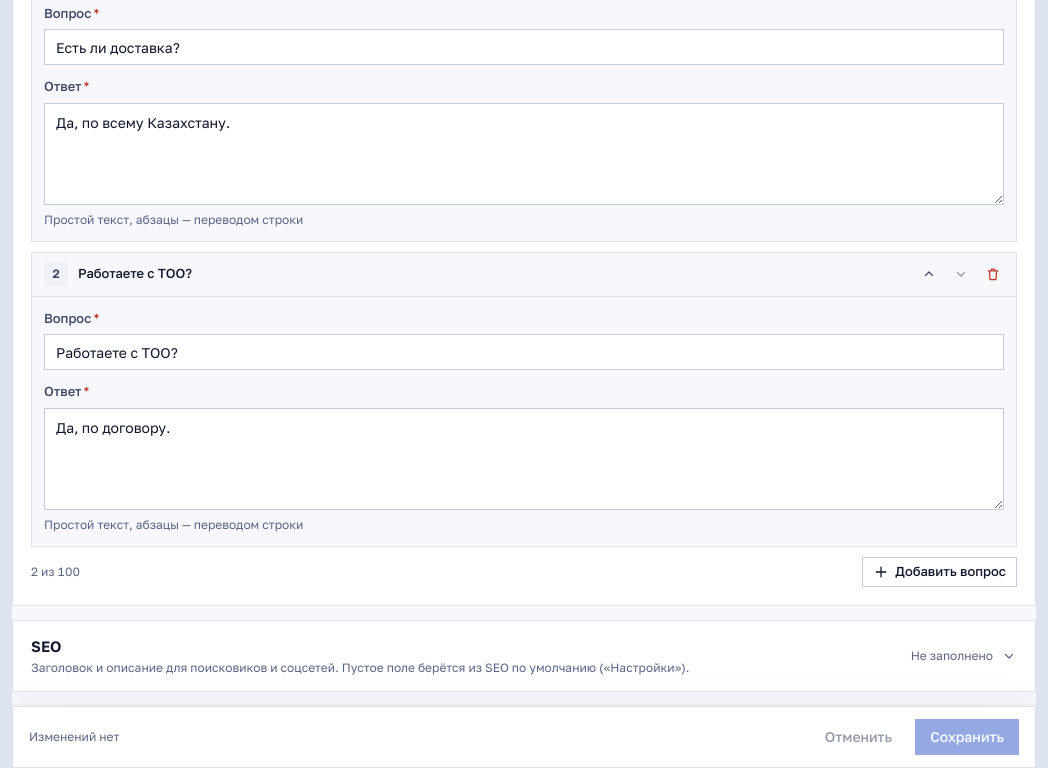
Test: FAQ › пустой новый вопрос удаляется без подтверждения; счётчик и предел
(page scrolled)
Expected: the button "Сохранить" is shown, [915,719,1019,755]
Click the button "Добавить вопрос".
click(940, 572)  # box [862,557,1017,587]
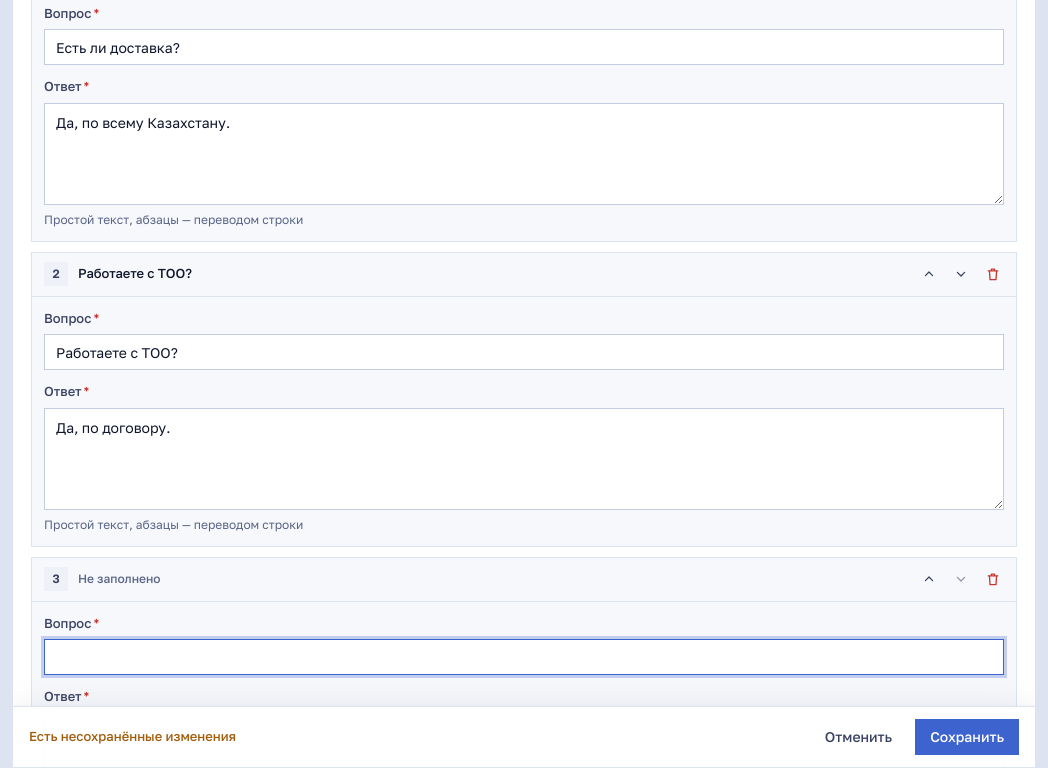
Click the button named "Удалить: Вопрос 3".
click(993, 579)  # box [978,564,1008,594]
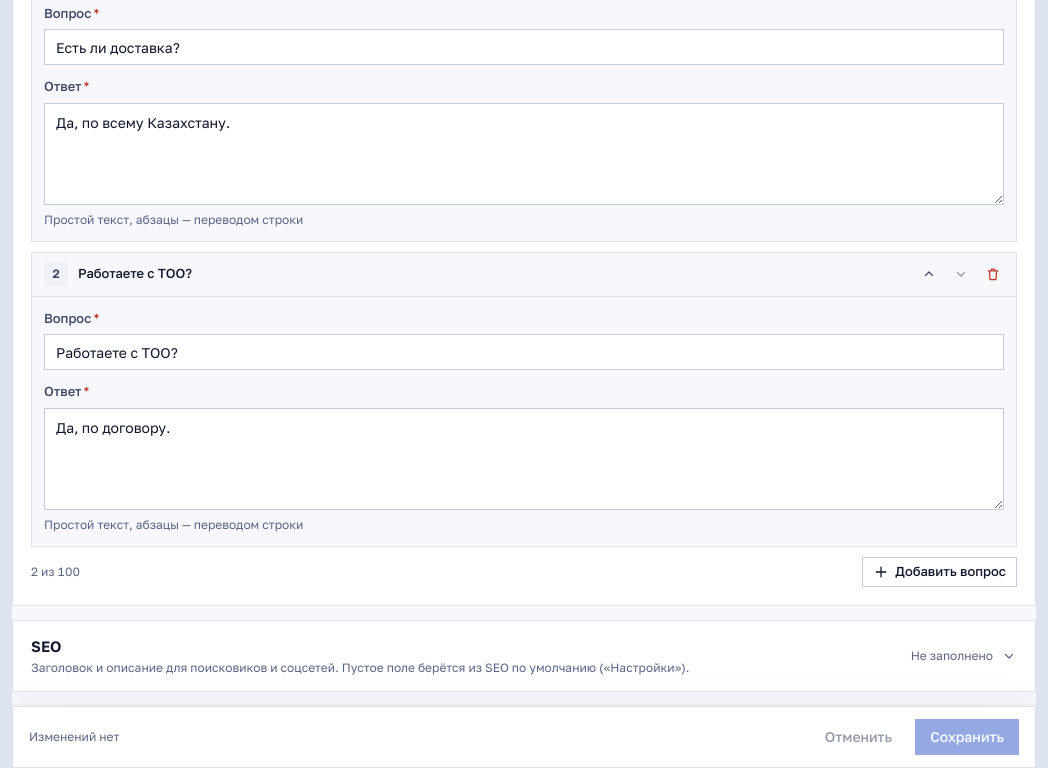
Expected: the button "Сохранить" is disabled, [915,719,1019,755]
